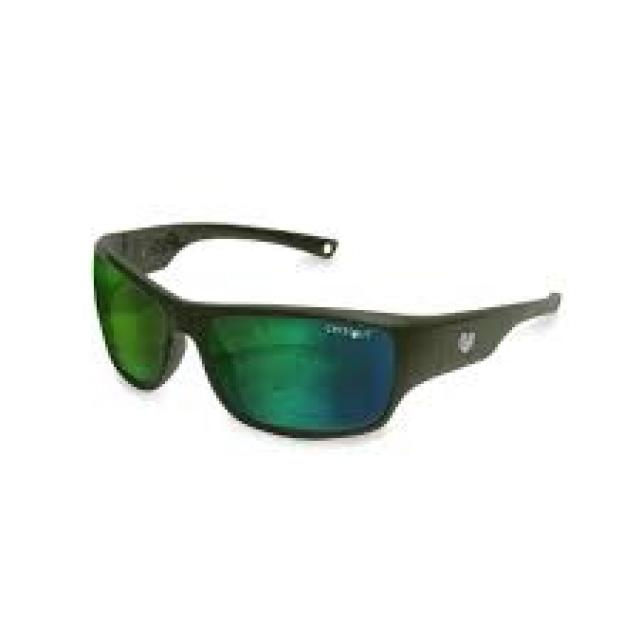suspicious-objects: (74, 219, 410, 441)
